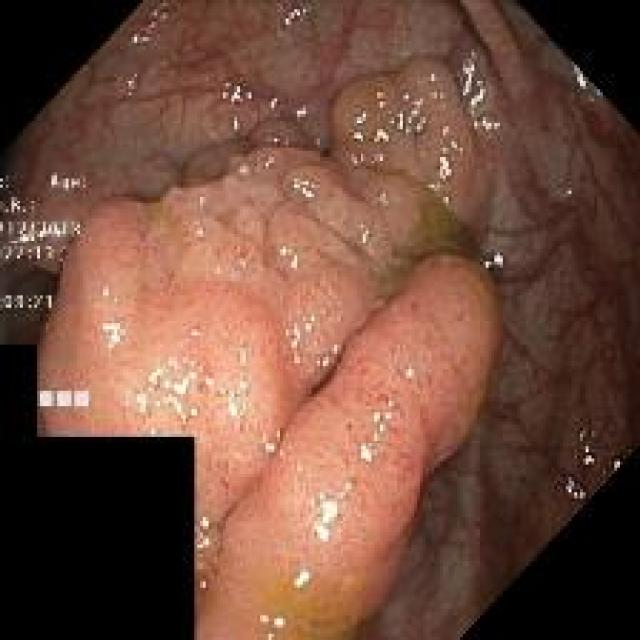Polyps: (39, 57, 501, 638)
